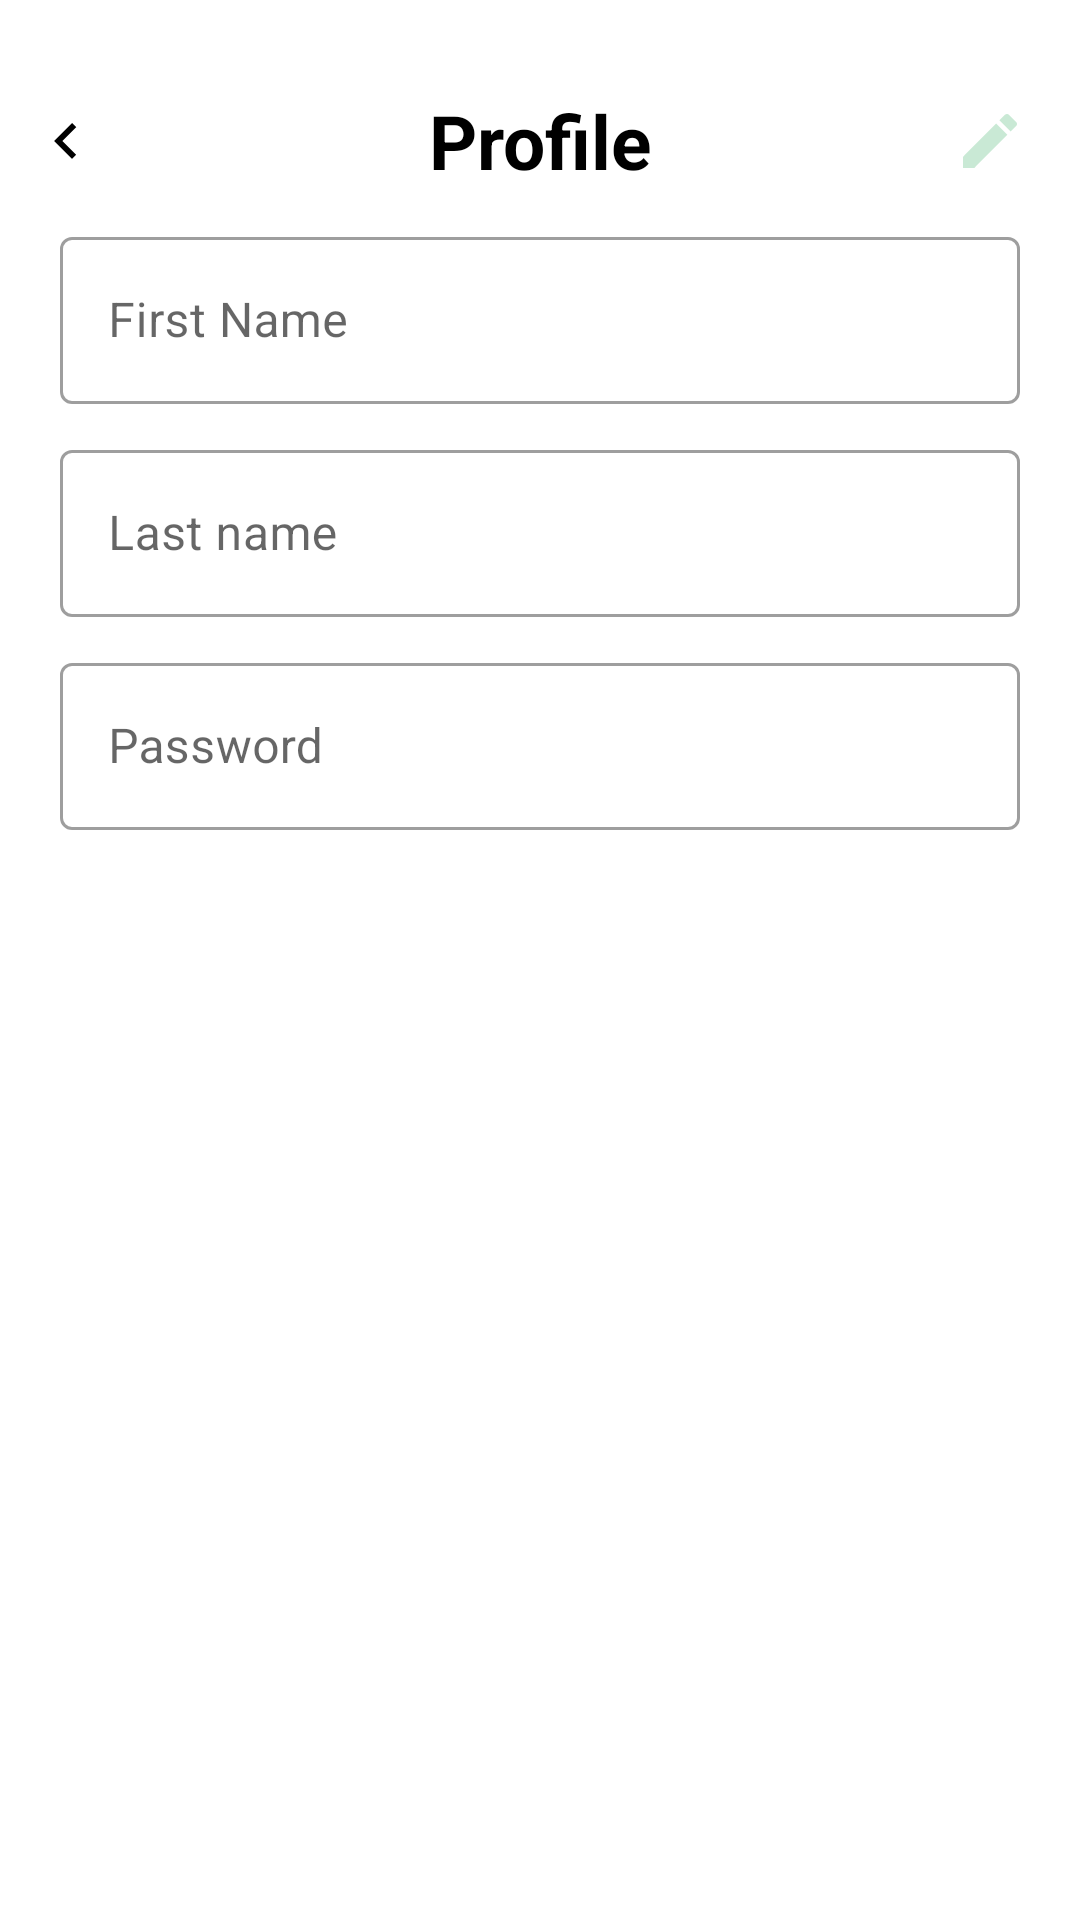

Icons on this 1080 x 1920 Android screen, each with its box as (x1, y1, x2, y2):
Edit Profile: (963, 114, 1017, 168)
Go back: (54, 123, 76, 159)
